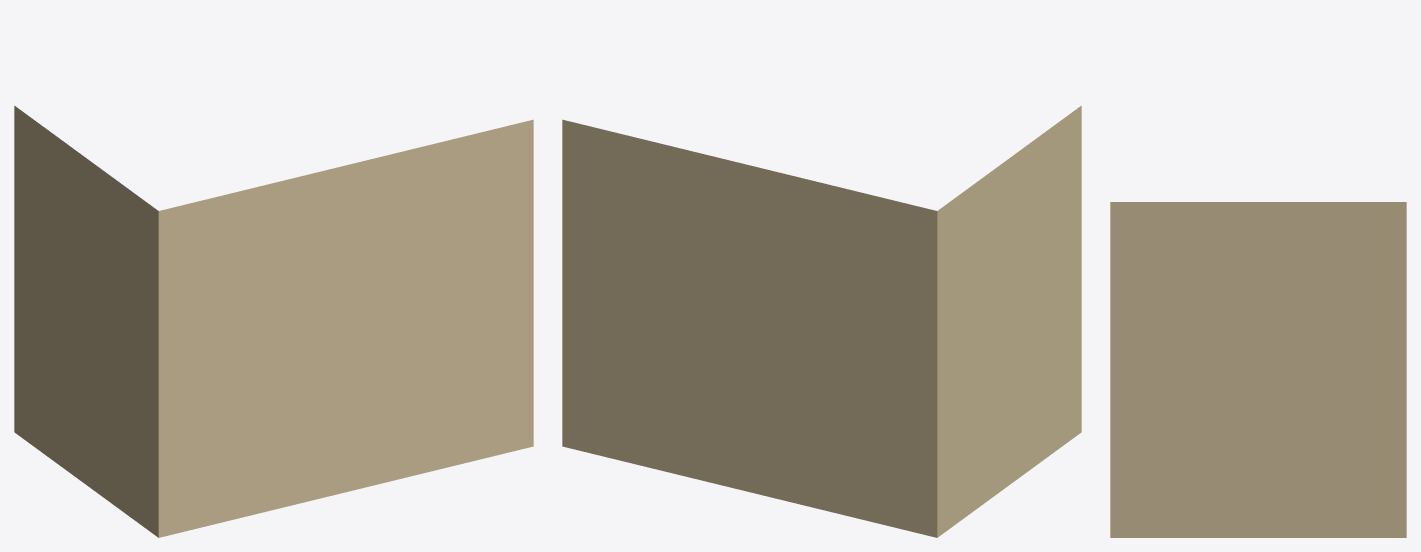
File: product-box.glb
3 views of the same model, side by side, from view 1: azimuth 30°, elevation 25°; view 2: azimuth 150°, elevation 25°; view 3: azimuth 270°, elevation 25° (orthographic). The views are drawn at different scales.
Visible parts, largest first — view 1: ProductBox; view 2: ProductBox; view 3: ProductBox.
Boxes of the visible parts, x1,y1,x2,y2 form: ProductBox: (14, 105, 533, 537); ProductBox: (562, 105, 1081, 537); ProductBox: (1110, 202, 1406, 537).
Bounding box in the file's own units: 0.3 × 0.25 × 0.2.
